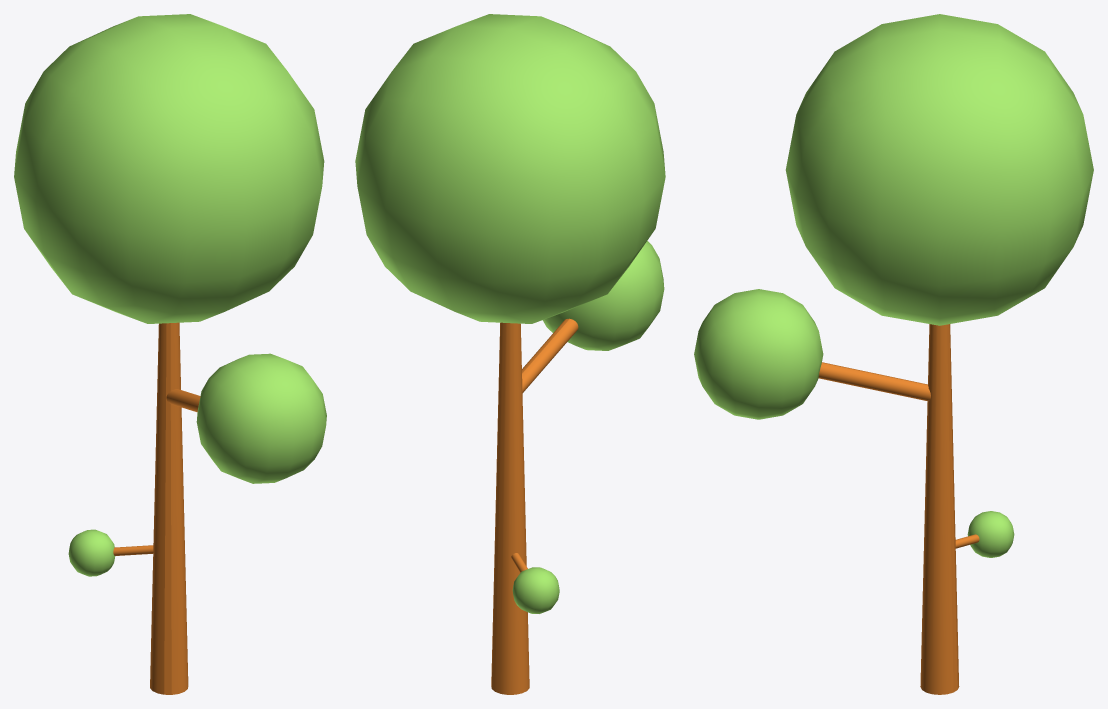
File: Дерево.fbx
3 views of the same model, side by side, from view 1: azimuth 30°, elevation 25°; view 2: azimuth 150°, elevation 25°; view 3: azimuth 270°, elevation 25° (orthographic).
Visible parts, largest first — view 1: Cube.002, Plane.004; view 2: Cube.002, Plane.004; view 3: Cube.002, Plane.004.
Part boxes in pixels (x1,y1,x2,y2): Cube.002: (14,14,326,576); Plane.004: (113,322,200,694); Cube.002: (355,14,665,613); Plane.004: (491,318,578,694); Cube.002: (694,14,1093,557); Plane.004: (818,324,979,694).
Bounding box in the file's own units: 152 × 357 × 197.
